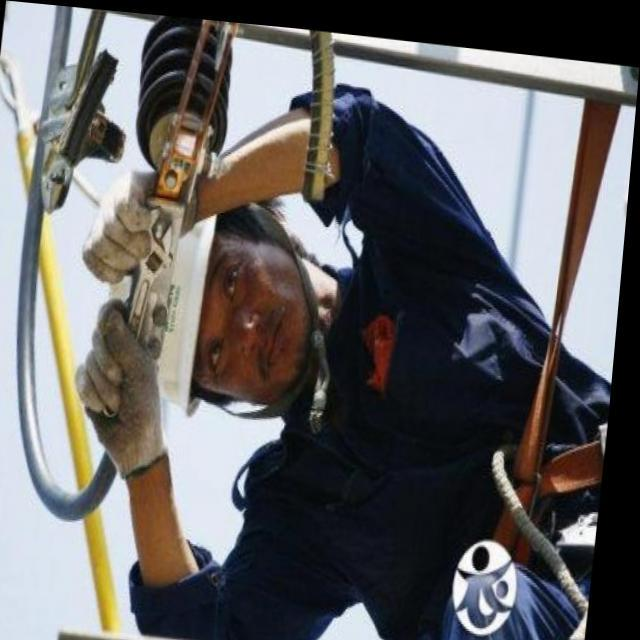belt: (498, 440, 591, 558)
